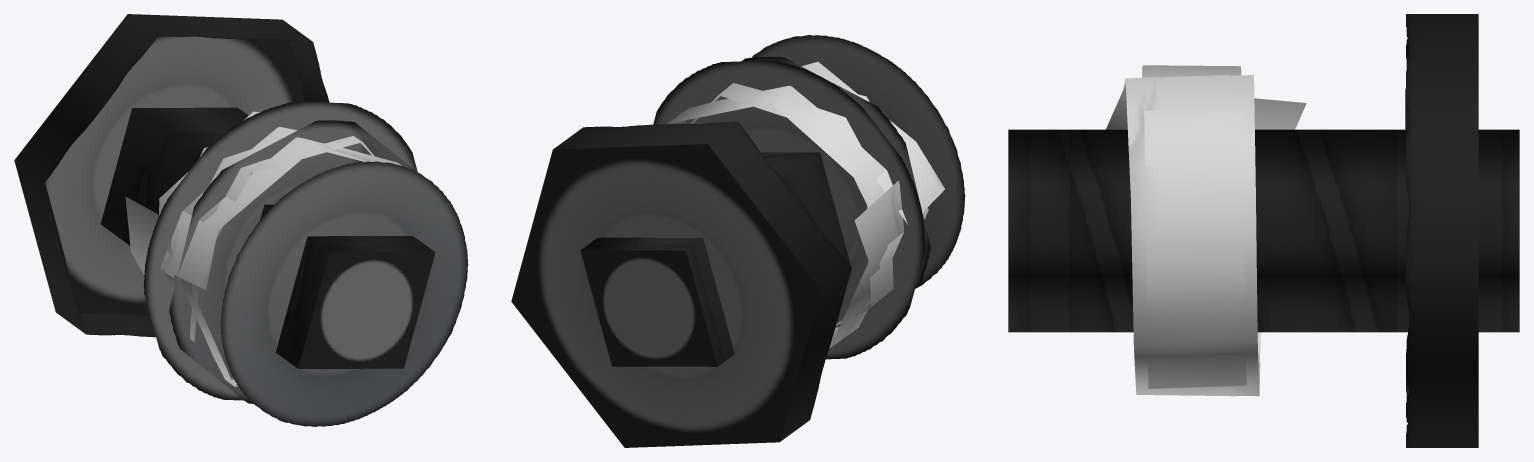
The model's file is obj_interactive_suspensionoffroad_03_on_lod1.fbx.
3 views of the same model, side by side, from view 1: azimuth 30°, elevation 25°; view 2: azimuth 150°, elevation 25°; view 3: azimuth 270°, elevation 25° (orthographic). The views are drawn at different scales.
Parts seen in each view (by area): view 1: obj_interactive_suspensionoffroad_03_on_lod1; view 2: obj_interactive_suspensionoffroad_03_on_lod1; view 3: obj_interactive_suspensionoffroad_03_on_lod1.
Boxes of the visible parts, x1,y1,x2,y2 form: obj_interactive_suspensionoffroad_03_on_lod1: (14, 14, 468, 426); obj_interactive_suspensionoffroad_03_on_lod1: (511, 35, 965, 447); obj_interactive_suspensionoffroad_03_on_lod1: (1008, 14, 1519, 447).
Size of the model in its own units: 1.02 by 1.02 by 1.23.
Materials: 1 (1 with a texture image).
